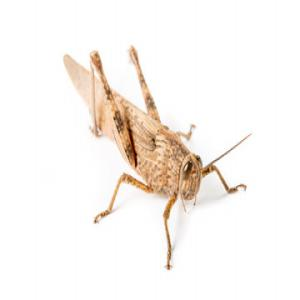locust: (69, 47, 203, 207)
